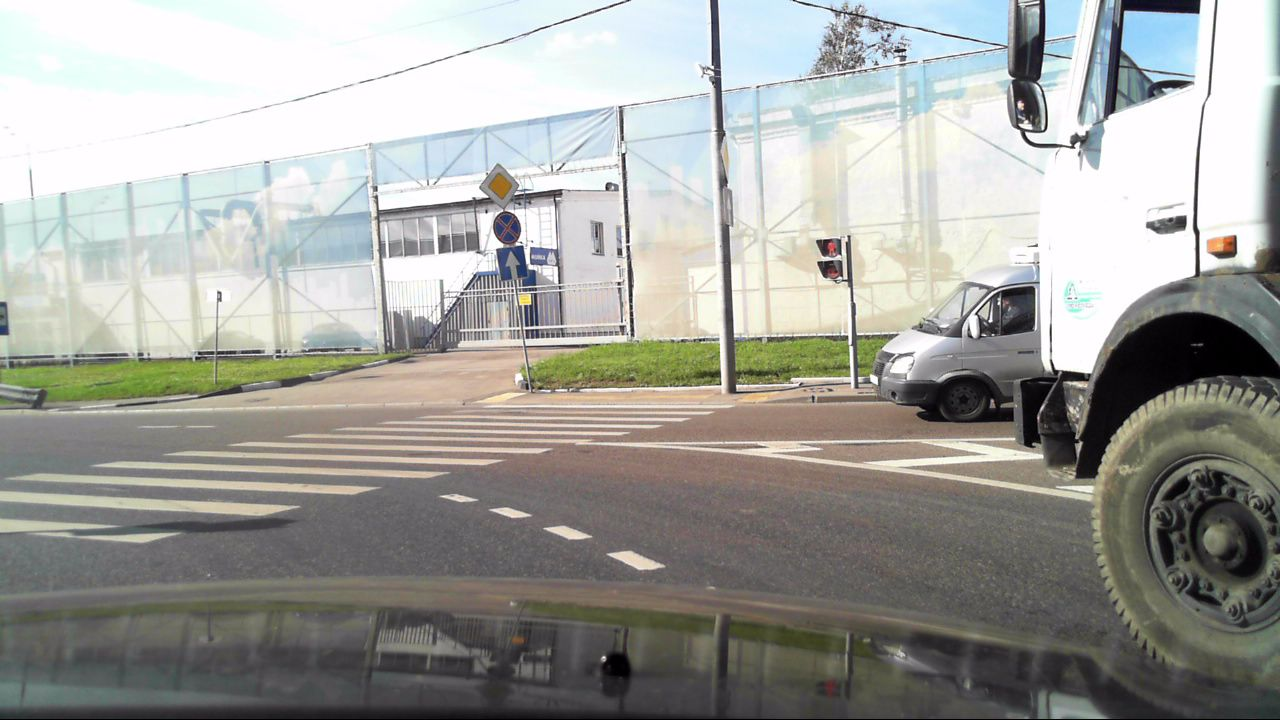No Parking: (488, 211, 526, 244)
